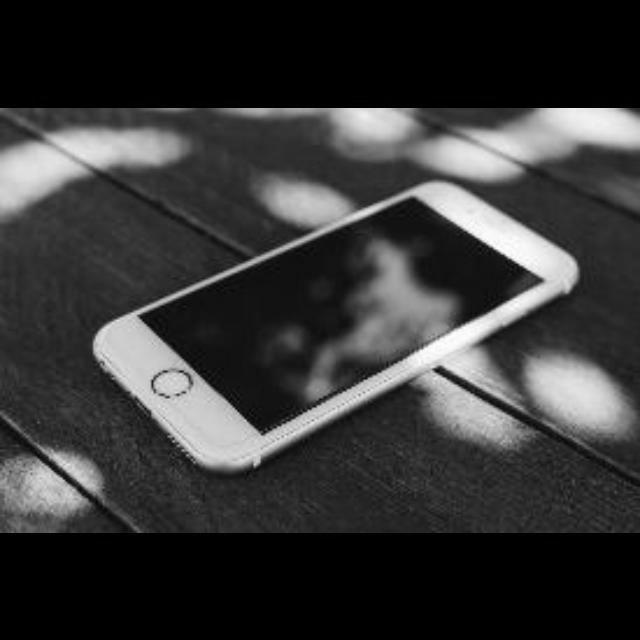fake: (71, 150, 588, 480)
